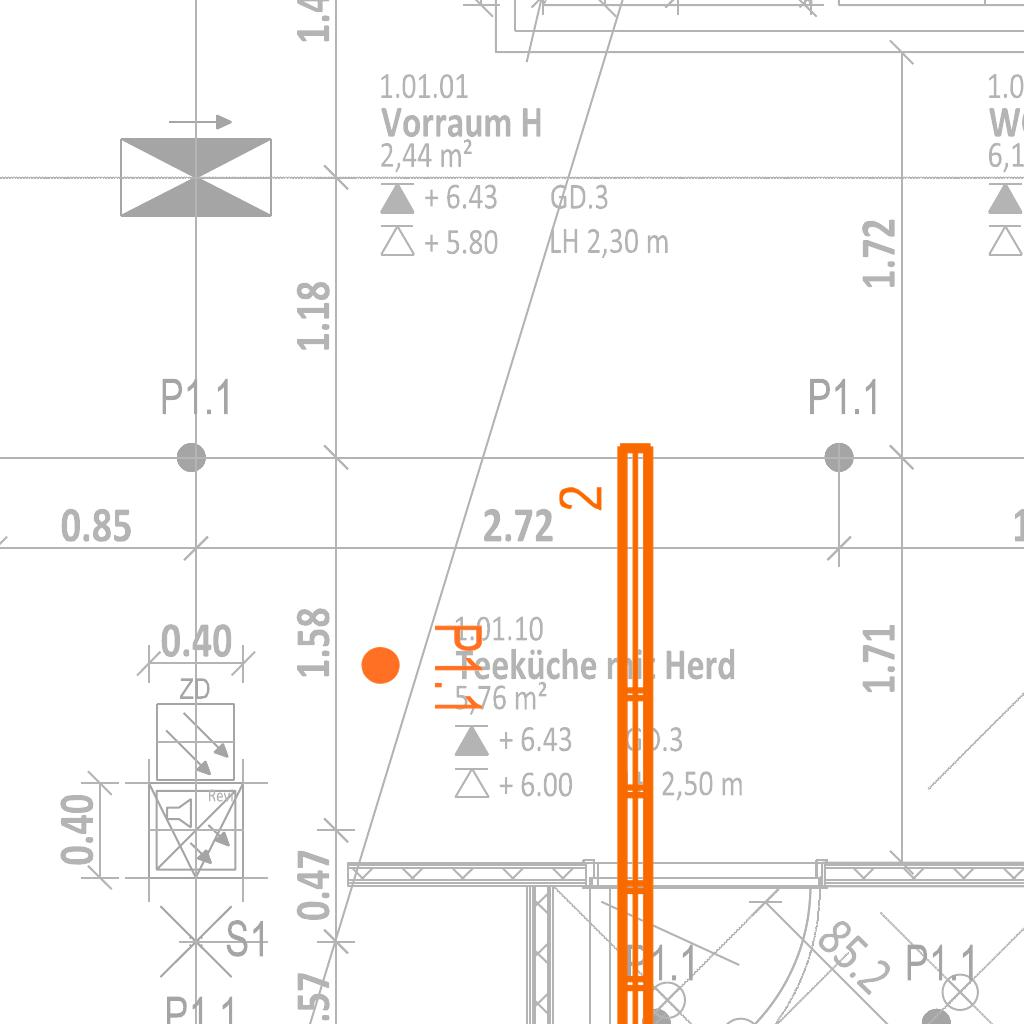Ambulanz_Pendelleuchte_LED: (554, 434, 666, 1024)
Downlight_LED_Einbauleuchten_Flur: (358, 622, 486, 715)
